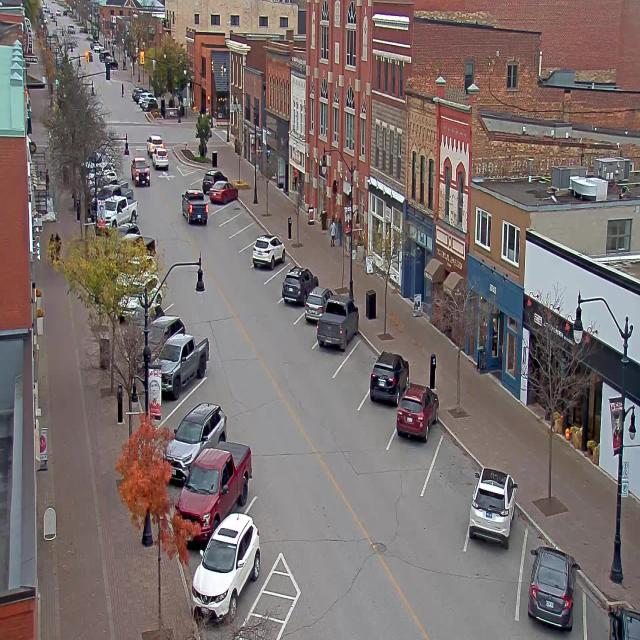available: (430, 428, 482, 510), (342, 332, 379, 387), (177, 369, 222, 410), (260, 263, 288, 301), (233, 242, 260, 268), (229, 226, 260, 248), (221, 215, 253, 235), (214, 202, 243, 222), (186, 169, 207, 183), (188, 178, 205, 192)
occupied: (192, 510, 260, 624), (186, 430, 253, 517), (163, 400, 227, 484), (526, 544, 580, 630), (468, 466, 518, 547), (388, 380, 446, 448), (152, 331, 209, 398), (586, 586, 638, 639), (316, 296, 358, 351), (368, 349, 409, 405), (282, 265, 318, 304), (252, 232, 285, 269), (303, 284, 330, 324), (210, 179, 237, 204), (202, 170, 218, 193)
